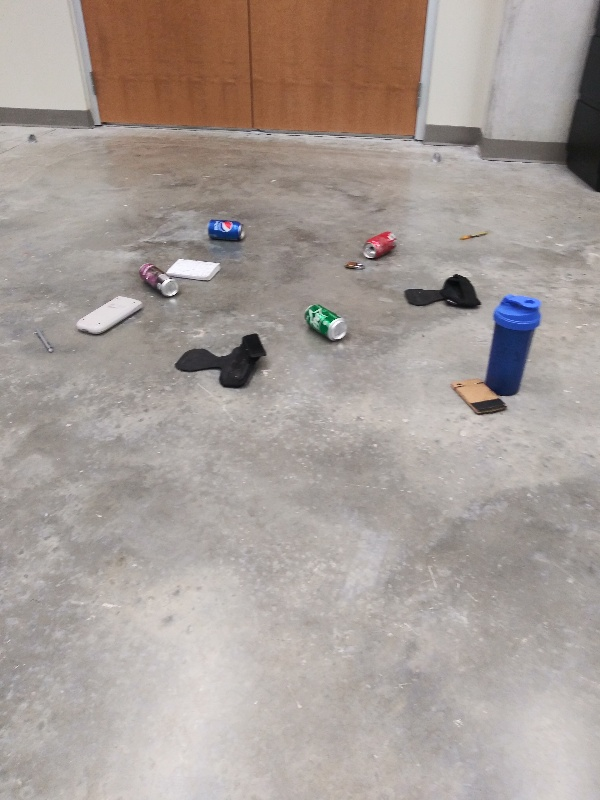can: (299, 297, 354, 343), (134, 255, 186, 303), (360, 227, 397, 263), (205, 214, 249, 242)
